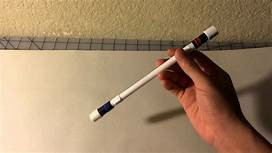pen: (84, 28, 216, 122)
